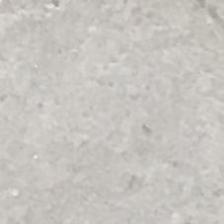Non_Crack: (6, 29, 204, 207)
